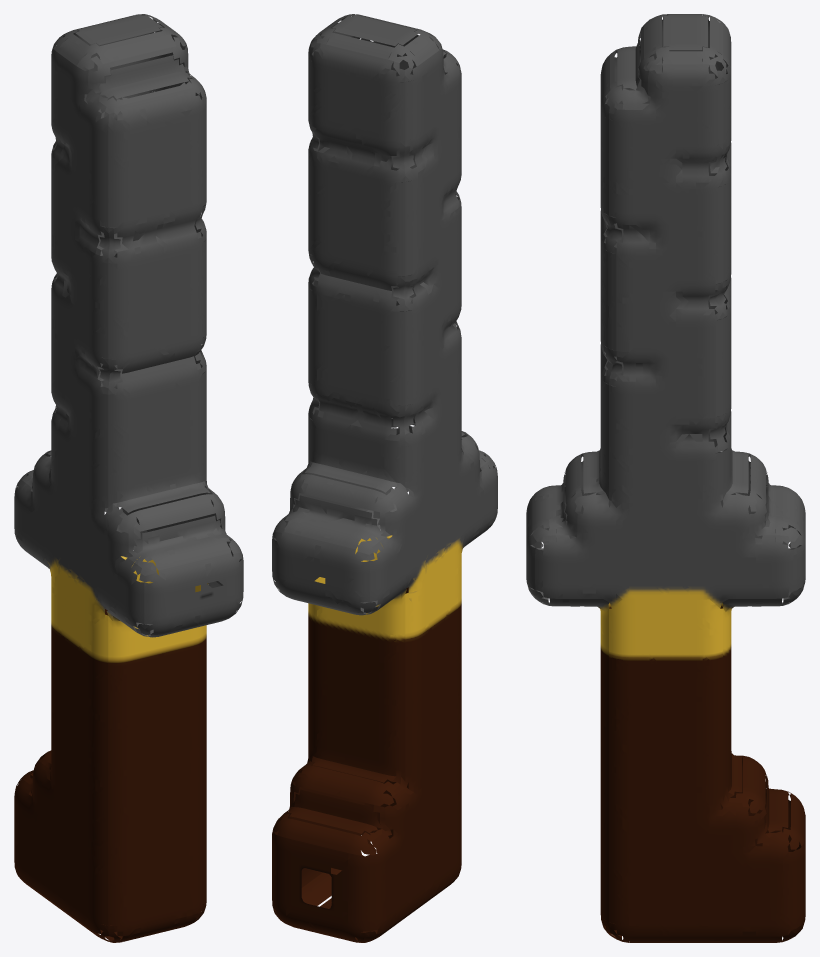
The model's file is Keris.fbx.
3 views of the same model, side by side, from view 1: azimuth 30°, elevation 25°; view 2: azimuth 150°, elevation 25°; view 3: azimuth 270°, elevation 25° (orthographic). The views are drawn at different scales.
Visible parts, largest first — view 1: Object; view 2: Object; view 3: Object.
Boxes of the visible parts, x1=… form: Object: x1=14, y1=14, x2=243, y2=942; Object: x1=272, y1=14, x2=497, y2=942; Object: x1=526, y1=14, x2=805, y2=942.
Bounding box in the file's own units: 6.4 × 48.37 × 13.7.
1 material, 1 textured.
